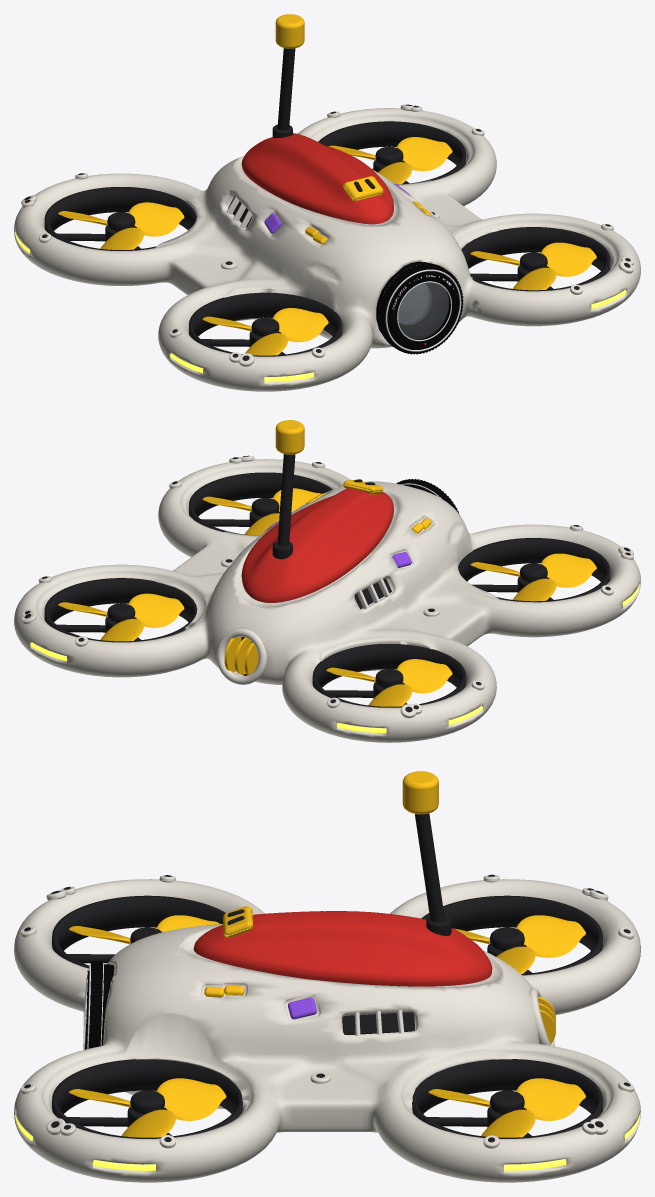
File: guide_drone.glb
3 renders of one model, top to bottom at view 1: azimuth 30°, elevation 25°; view 2: azimuth 150°, elevation 25°; view 3: azimuth 270°, elevation 25°, orthographic. The views are drawn at different scales.
Visible parts, largest first — view 1: body, blades_0, blades_3, blades_1, blades_2; view 2: body, blades_1, blades_2, blades_3, blades_0; view 3: body, blades_0, blades_2, blades_3, blades_1.
Part boxes in pixels (x1,y1,x2,y2): body: (14,14,640,391); blades_0: (470,242,596,290); blades_3: (58,202,184,249); blades_1: (202,308,328,355); blades_2: (328,137,452,184); body: (14,420,640,742); blades_1: (470,553,596,601); blades_2: (58,593,184,641); blades_3: (326,659,452,706); blades_0: (202,488,321,535); body: (14,771,640,1182); blades_0: (69,1078,226,1137); blades_2: (428,1078,585,1137); blades_3: (454,915,585,973); blades_1: (69,915,218,944).
Bounding box in the file's own units: 0.7175 × 0.3896 × 0.6888.
